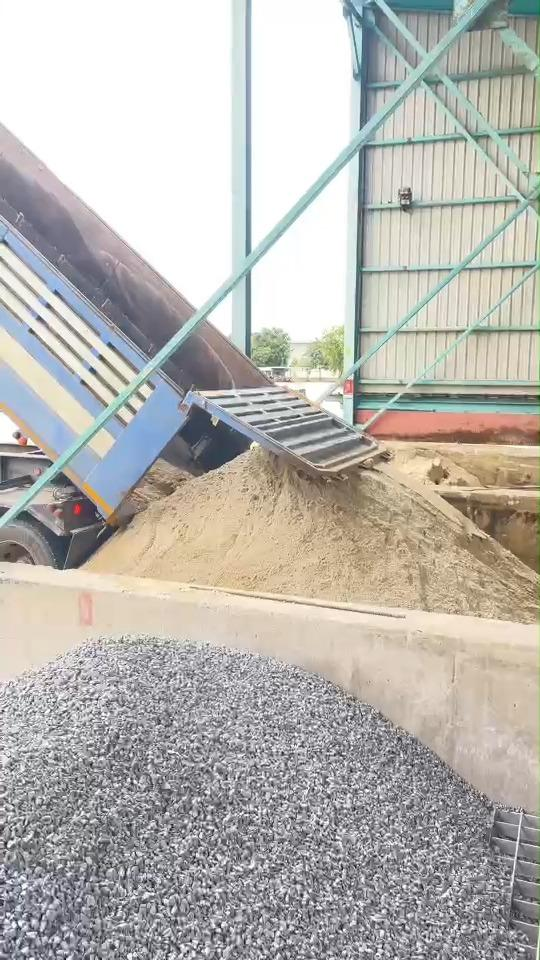gravel: (1, 637, 522, 959)
sand: (87, 449, 536, 621), (117, 458, 189, 525), (394, 449, 478, 485)
